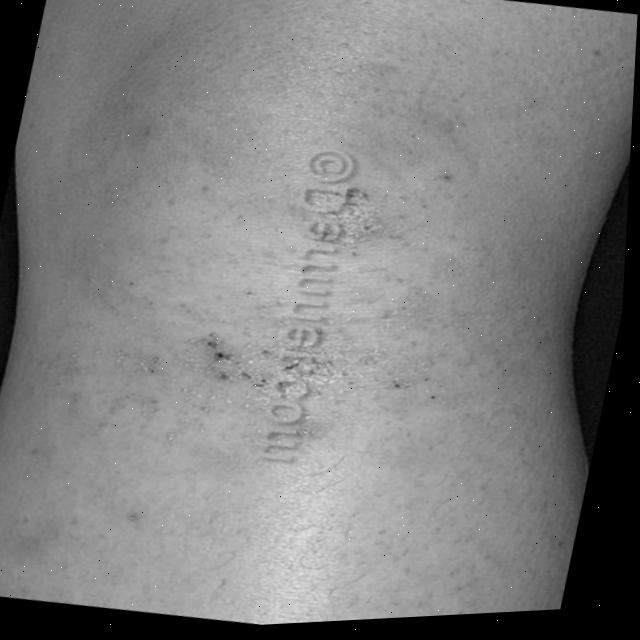Eczema: (55, 88, 467, 504)
